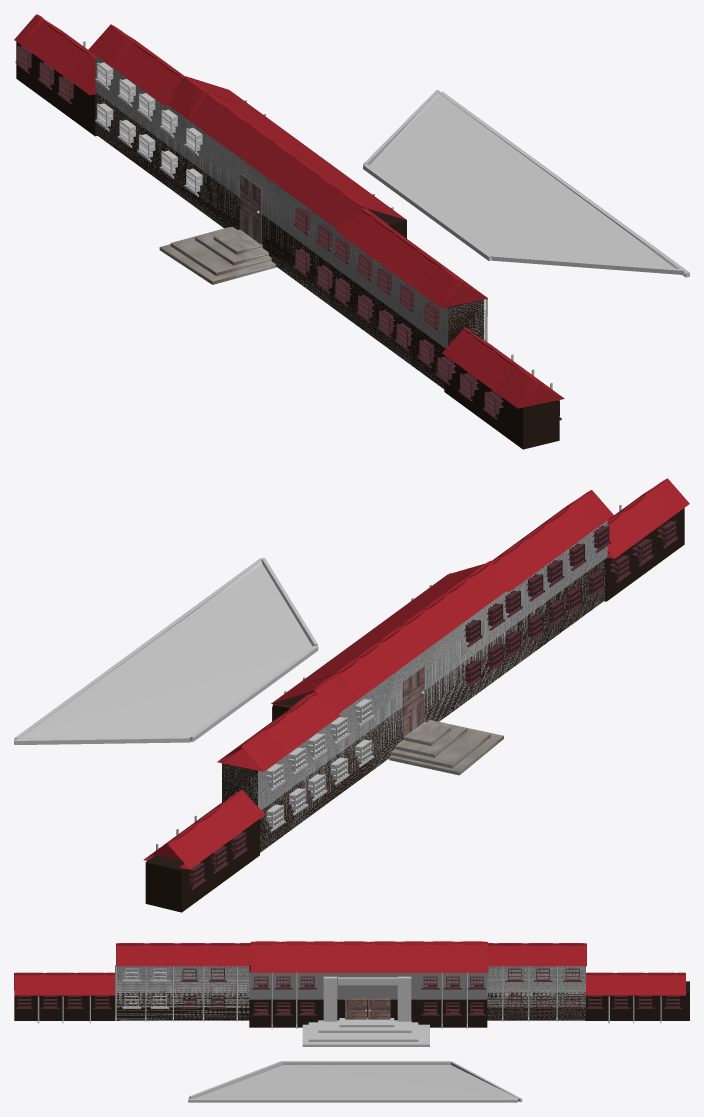
File: fifth.obj
The picture shows the model from 3 angles, top to bottom: view 1: azimuth 30°, elevation 25°; view 2: azimuth 150°, elevation 25°; view 3: azimuth 270°, elevation 25°; orthographic projection. The views are drawn at different scales.
Visible parts, largest first — view 1: Cube.054_Cube.146, Cube.002_Cube.003, Cube.007_Cube.110, Cube.104_Cube.197, Cube.023_Cube.053, Plane.003_Plane.007, Plane.005_Plane.012, Plane.014_Plane.021, Plane.011_Plane.018, Plane.015_Plane.022, Plane.018_Plane.025, Plane.017_Plane.024 (+18 smaller); view 2: Cube.054_Cube.146, Cube.002_Cube.003, Cube.007_Cube.110, Cube.104_Cube.197, Cube.051_Cube.147, Plane.010_Plane.017, Plane.011_Plane.018, Plane.014_Plane.021, Plane.015_Plane.022, Plane.017_Plane.024, Plane.013_Plane.020, Plane.018_Plane.025 (+18 smaller); view 3: Cube.054_Cube.146, Cube.002_Cube.003, Cube.003_Cube.005, Cube.007_Cube.110, Cube.102_Cube.195, Cube.051_Cube.147, Cube.023_Cube.053, Cube.055_Cube.148, Cube.001_Cube.002, Plane.011_Plane.018, Plane.015_Plane.022, Plane.018_Plane.025 (+24 smaller).
Boxes of the visible parts, left/top/right/bottom form: Cube.054_Cube.146: left=363, top=90, right=689, bottom=277; Cube.002_Cube.003: left=95, top=56, right=484, bottom=388; Cube.007_Cube.110: left=95, top=56, right=484, bottom=388; Cube.104_Cube.197: left=159, top=226, right=276, bottom=284; Cube.023_Cube.053: left=483, top=384, right=559, bottom=449; Plane.003_Plane.007: left=494, top=366, right=564, bottom=408; Plane.005_Plane.012: left=418, top=266, right=487, bottom=308; Plane.014_Plane.021: left=231, top=124, right=317, bottom=167; Plane.011_Plane.018: left=167, top=76, right=250, bottom=119; Plane.015_Plane.022: left=254, top=141, right=340, bottom=184; Plane.018_Plane.025: left=320, top=190, right=406, bottom=228; Plane.017_Plane.024: left=297, top=173, right=383, bottom=215; Cube.054_Cube.146: left=14, top=558, right=318, bottom=744; Cube.002_Cube.003: left=222, top=520, right=607, bottom=852; Cube.007_Cube.110: left=222, top=522, right=607, bottom=850; Cube.104_Cube.197: left=389, top=720, right=503, bottom=775; Cube.051_Cube.147: left=145, top=854, right=220, bottom=912; Plane.010_Plane.017: left=217, top=729, right=286, bottom=771; Plane.011_Plane.018: left=271, top=673, right=357, bottom=713; Plane.014_Plane.021: left=336, top=625, right=422, bottom=668; Plane.015_Plane.022: left=360, top=608, right=444, bottom=651; Plane.017_Plane.024: left=403, top=577, right=488, bottom=620; Plane.013_Plane.020: left=316, top=641, right=399, bottom=684; Plane.018_Plane.025: left=426, top=560, right=507, bottom=603; Cube.054_Cube.146: left=188, top=1061, right=522, bottom=1102; Cube.002_Cube.003: left=116, top=966, right=585, bottom=1020; Cube.003_Cube.005: left=249, top=965, right=487, bottom=1027; Cube.007_Cube.110: left=116, top=966, right=585, bottom=1020; Cube.102_Cube.195: left=302, top=1018, right=429, bottom=1046; Cube.051_Cube.147: left=637, top=981, right=689, bottom=1020; Cube.023_Cube.053: left=14, top=995, right=66, bottom=1020; Cube.055_Cube.148: left=585, top=995, right=637, bottom=1020; Cube.001_Cube.002: left=66, top=995, right=118, bottom=1020; Plane.011_Plane.018: left=457, top=941, right=488, bottom=972; Plane.015_Plane.022: left=338, top=941, right=369, bottom=972; Plane.018_Plane.025: left=250, top=941, right=281, bottom=972.
Size of the model in its own units: 183 by 52.18 by 438.
